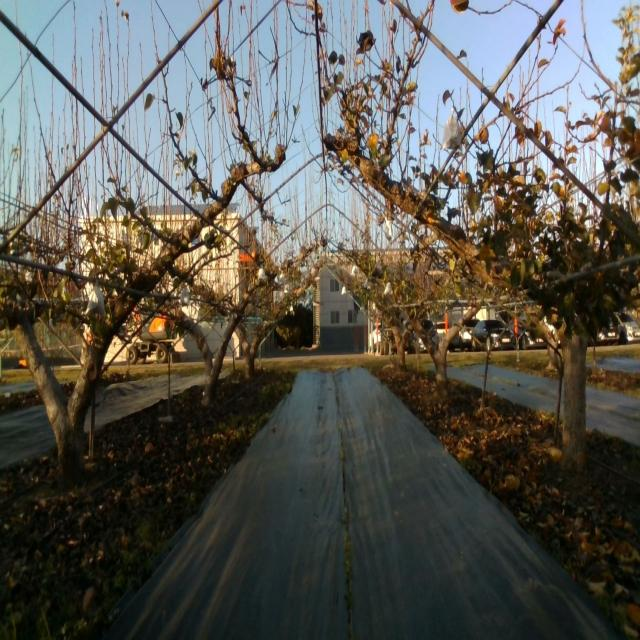pearbags: (441, 107, 464, 153), (85, 286, 106, 320), (180, 288, 191, 306)
